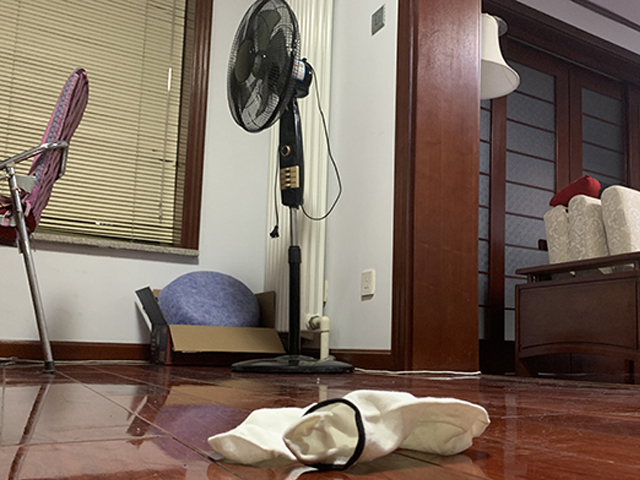socks: (206, 388, 493, 471)
sofa: (514, 172, 640, 379)
stool: (1, 67, 91, 372)
